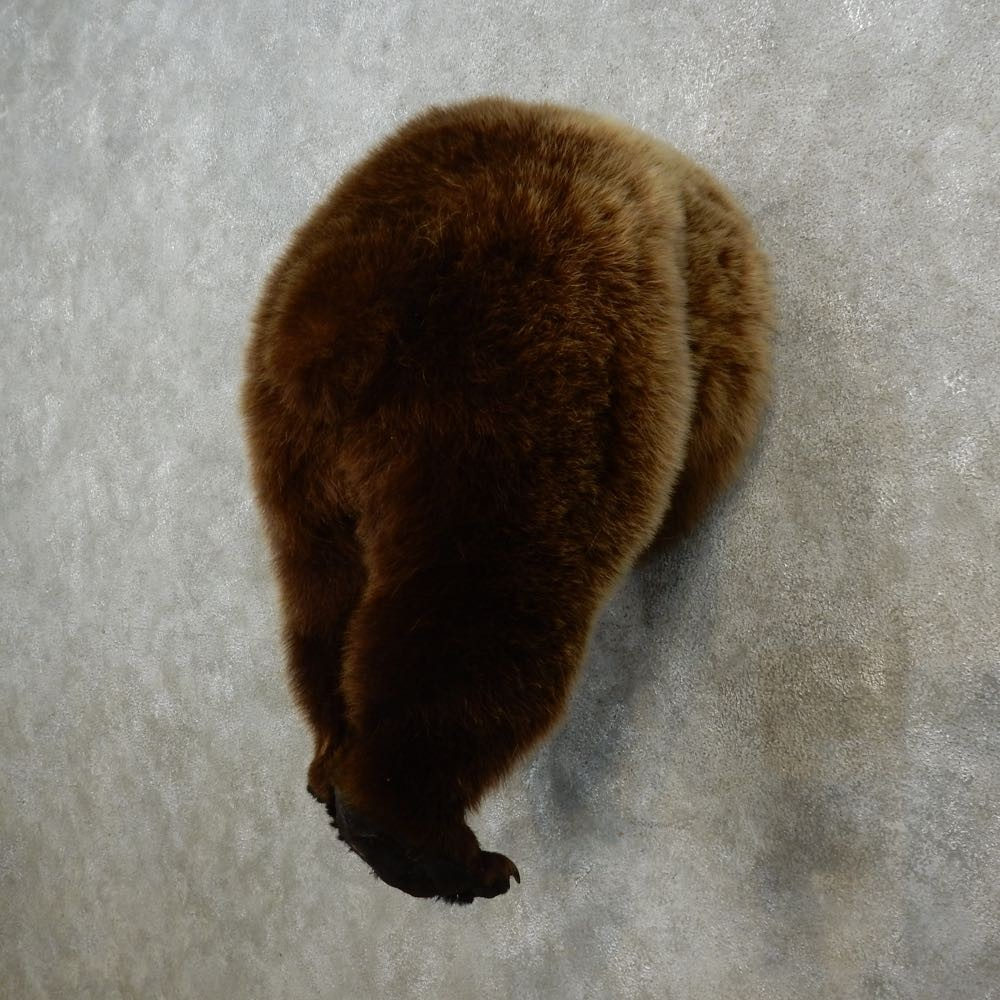bear: (236, 93, 759, 917)
